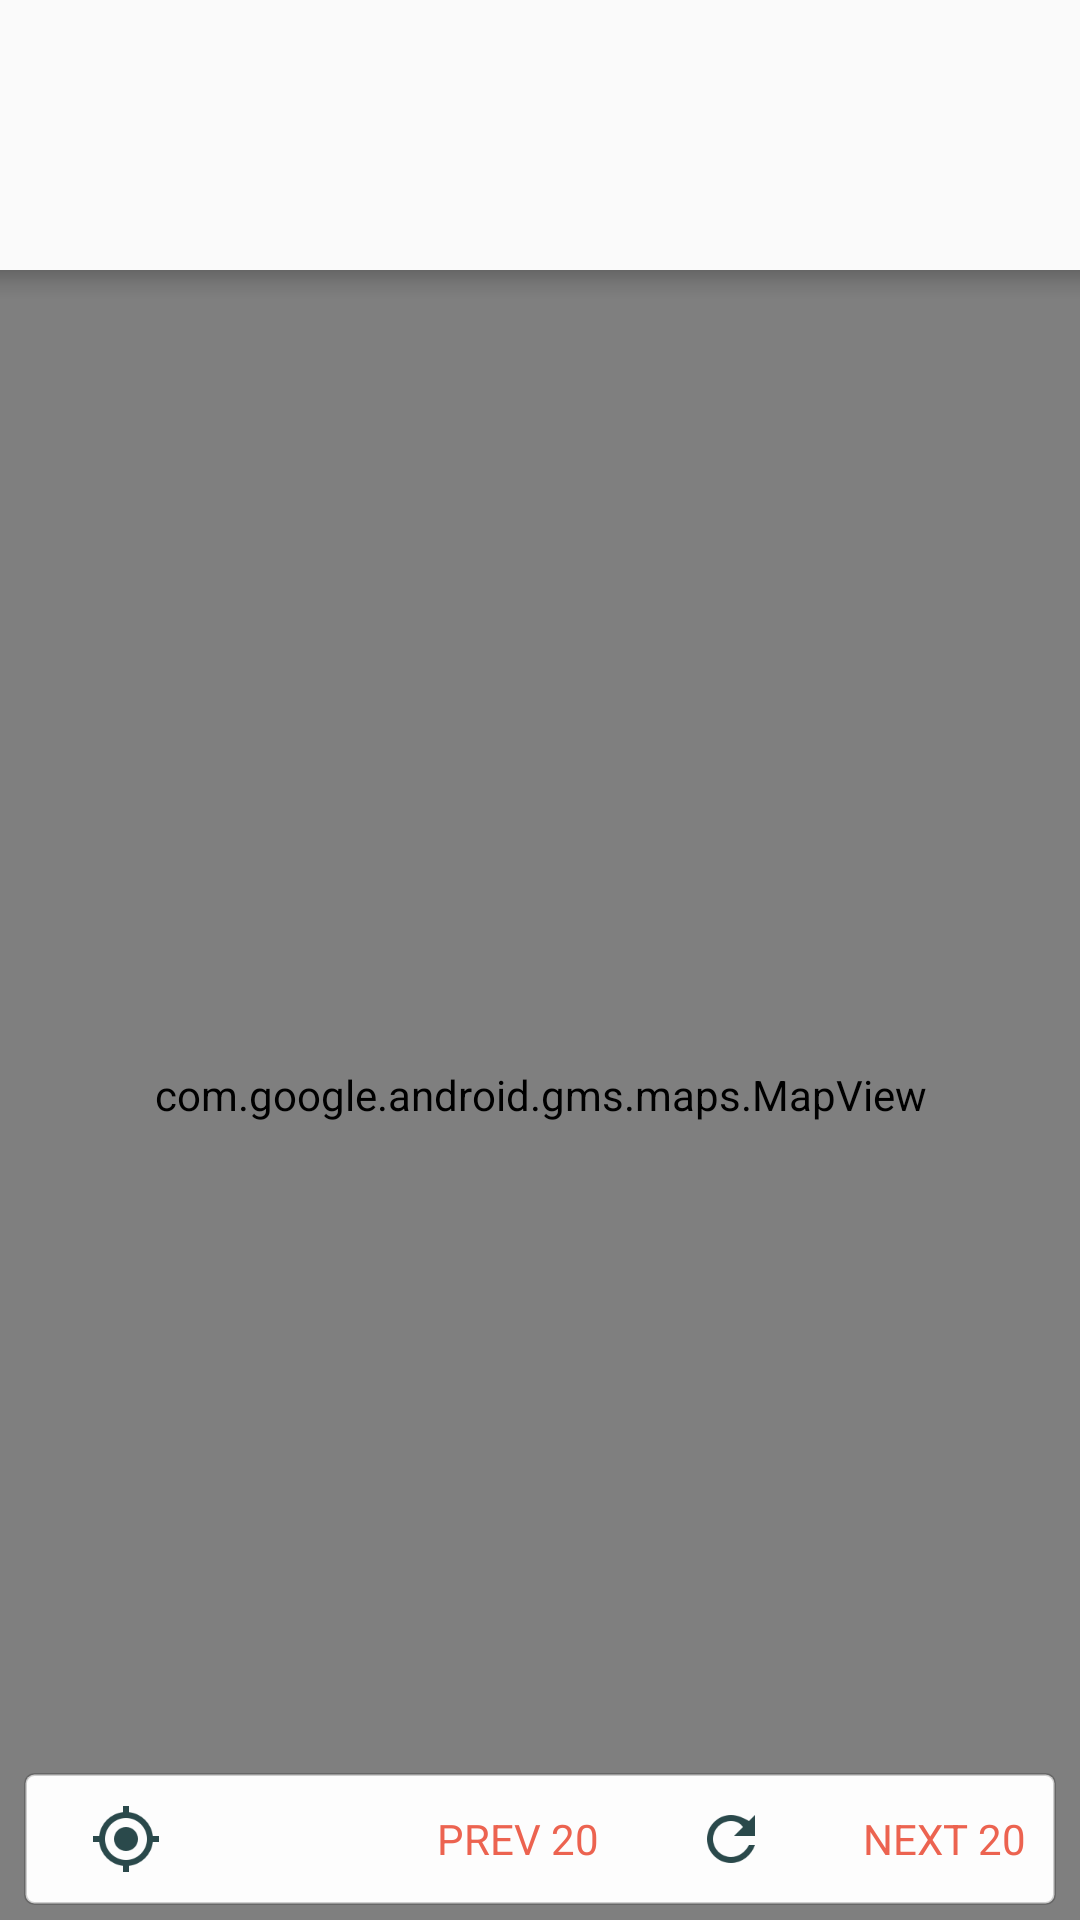

Screen size 1080*1920. Icon name, then its box in pixels as (x1, y1, x2, y2):
Redo Search: (629, 1774, 833, 1904)
single map currentloc: (25, 1774, 228, 1904)
